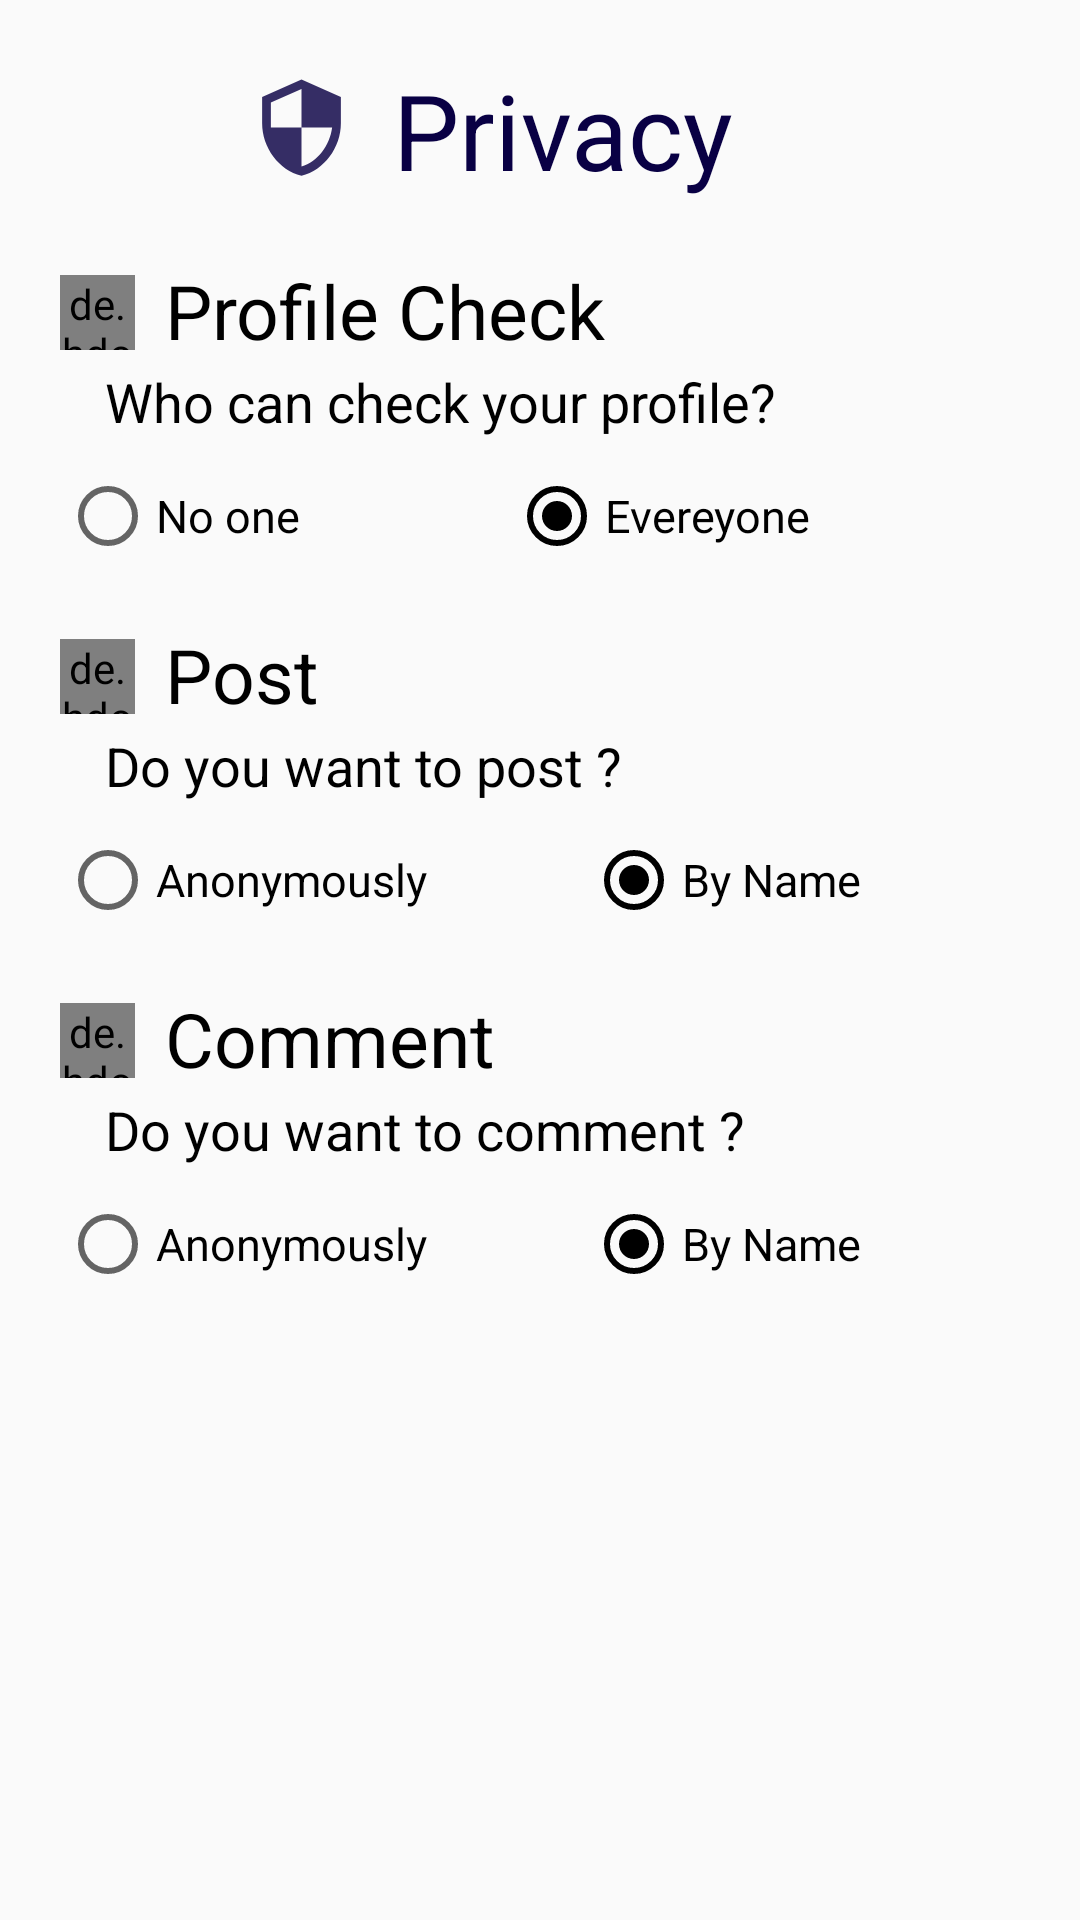

Locate icon controls on the screen. Image size 1080x1920, boxes as region(x1, y1, x2, y2).
security: region(262, 79, 341, 176)
